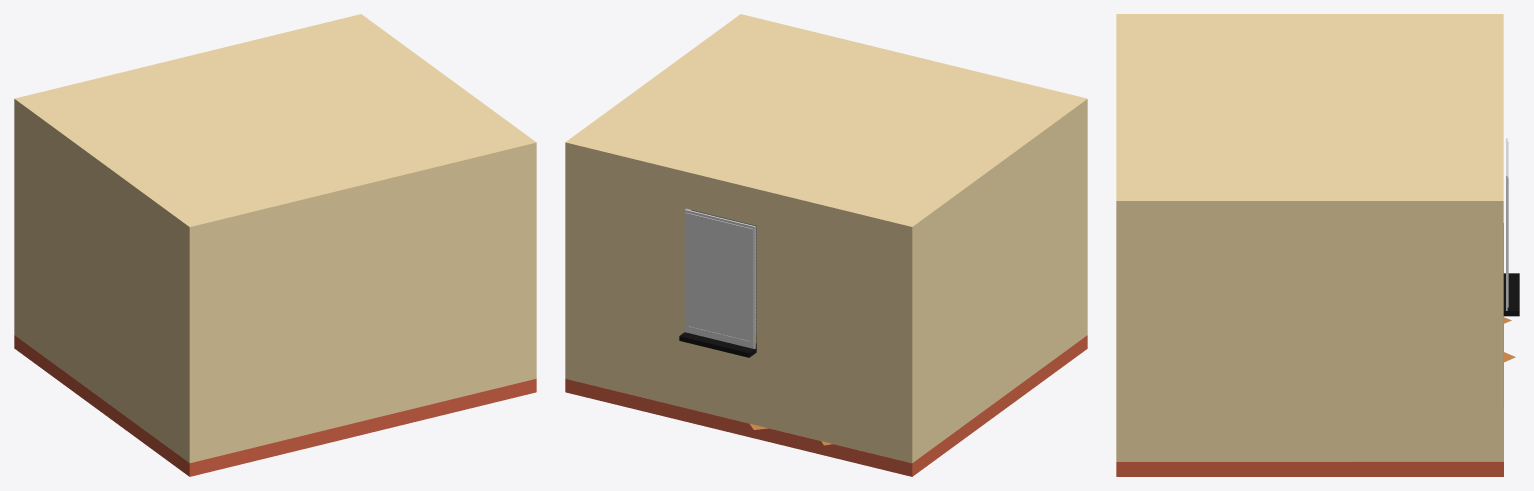
Rendered from FloorPlan23_physics.fbx.
3 renders of one model, left to right at view 1: azimuth 30°, elevation 25°; view 2: azimuth 150°, elevation 25°; view 3: azimuth 270°, elevation 25°, orthographic. The views are drawn at different scales.
Parts seen in each view (by area): view 1: Walls, Sphere.028, Sphere.030; view 2: Walls, Sphere.028, Sphere.030, WindowPane, WindowFrame; view 3: Walls, Sphere.028, Sphere.030, WindowFrame.
Boxes of the visible parts, left/top/right/bottom form: Walls: left=14, top=114, right=536, bottom=462; Sphere.028: left=14, top=14, right=536, bottom=241; Sphere.030: left=14, top=335, right=536, bottom=476; Walls: left=565, top=114, right=1087, bottom=462; Sphere.028: left=565, top=14, right=1087, bottom=241; Sphere.030: left=565, top=335, right=1087, bottom=476; WindowPane: left=688, top=218, right=749, bottom=340; WindowFrame: left=679, top=209, right=756, bottom=357; Walls: left=1116, top=217, right=1503, bottom=461; Sphere.028: left=1116, top=14, right=1503, bottom=217; Sphere.030: left=1116, top=461, right=1503, bottom=476; WindowFrame: left=1503, top=138, right=1519, bottom=316.
Size of the model in its own units: 479 by 330 by 437.
